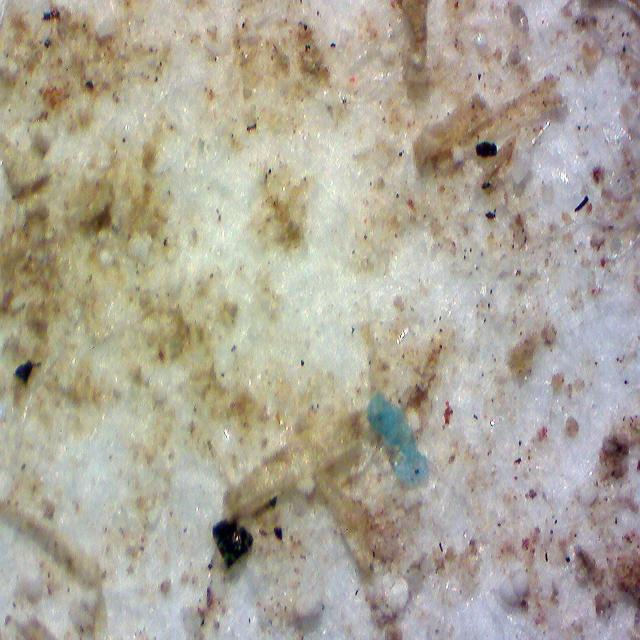microplastic: (367, 390, 428, 487)
